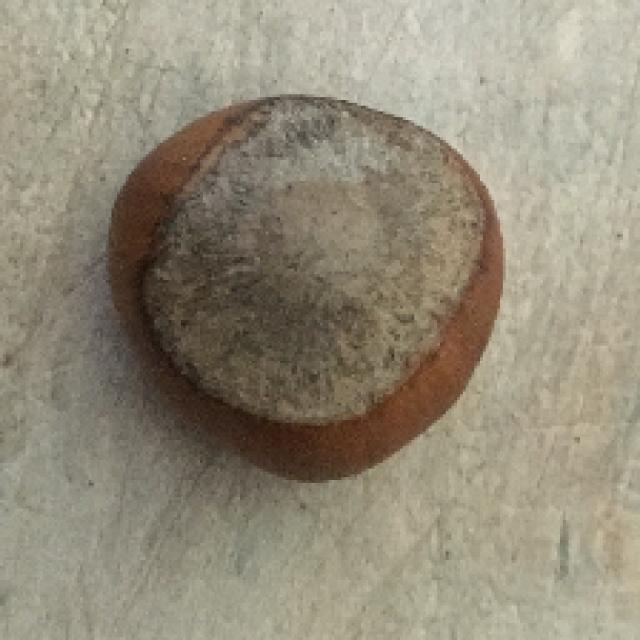qualityHazelnut: (107, 94, 502, 482)
